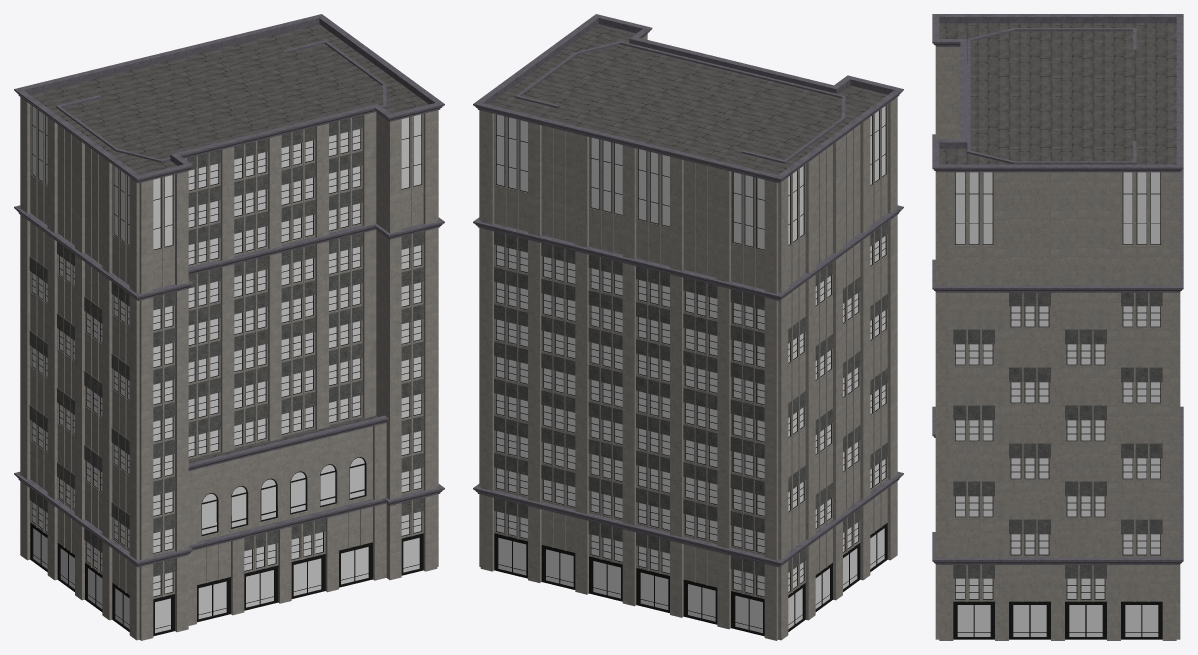
The model's file is Building_33.fbx.
3 views of the same model, side by side, from view 1: azimuth 30°, elevation 25°; view 2: azimuth 150°, elevation 25°; view 3: azimuth 270°, elevation 25° (orthographic). The views are drawn at different scales.
Visible parts, largest first — view 1: Building_33_LOD0; view 2: Building_33_LOD0; view 3: Building_33_LOD0.
Part boxes in pixels (x1=…): Building_33_LOD0: x1=14, y1=14, x2=444, y2=640; Building_33_LOD0: x1=473, y1=14, x2=903, y2=640; Building_33_LOD0: x1=932, y1=14, x2=1183, y2=640.
Size of what is drawn, in the model's own units: 3170 by 4572 by 2195.
